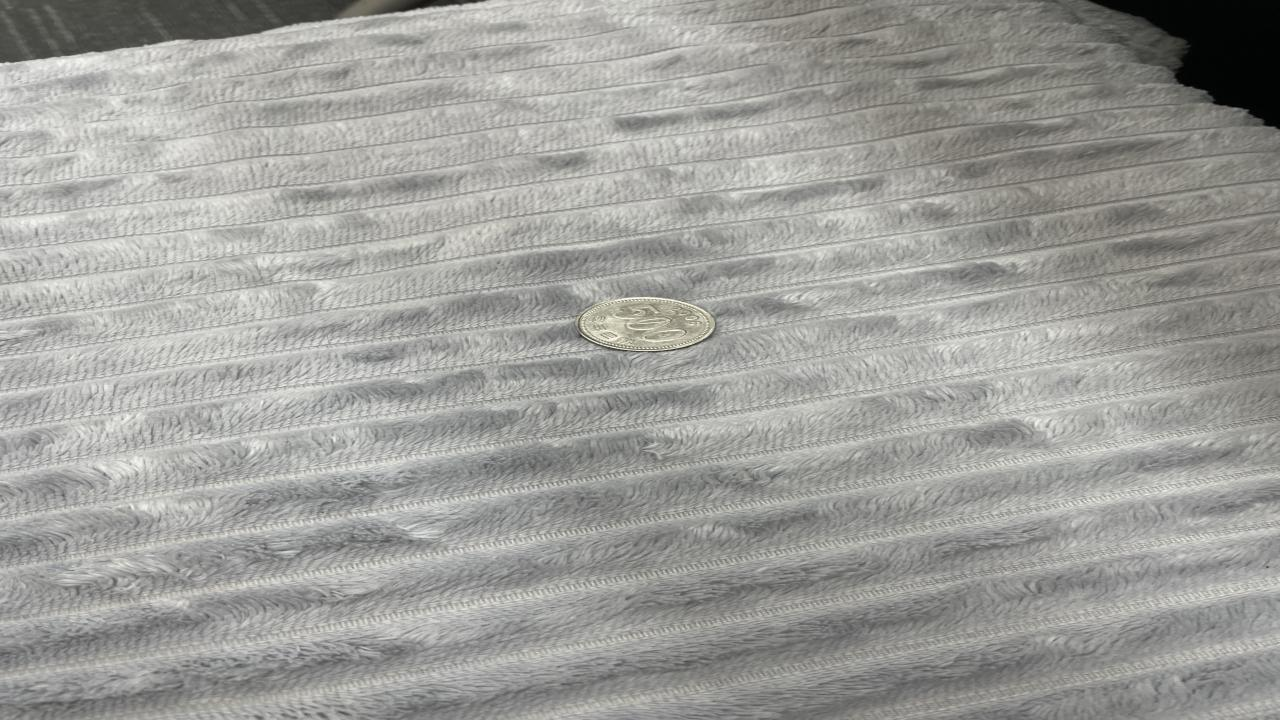coin: (576, 296, 720, 352)
